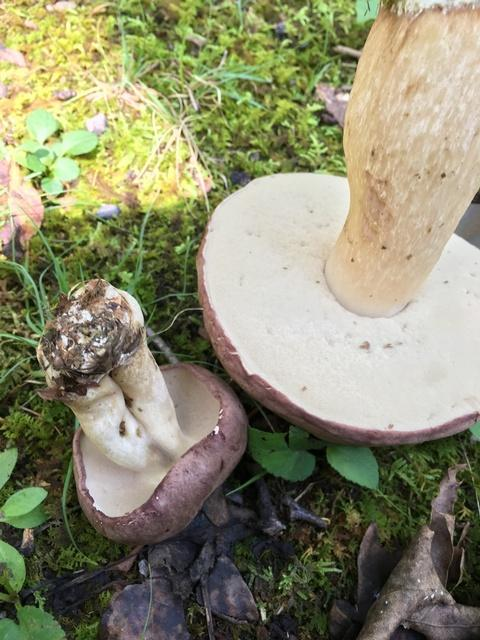Non-edible Mushroom: (175, 0, 480, 442), (34, 276, 249, 546)
